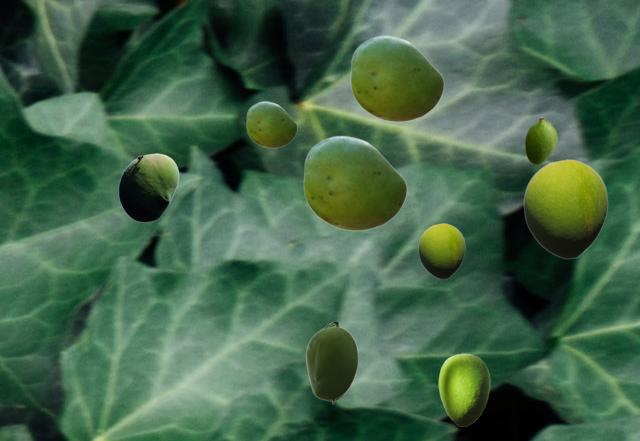green_mango: (303, 135, 406, 230), (523, 159, 607, 258), (350, 35, 443, 121), (305, 322, 357, 403), (118, 153, 178, 221), (438, 353, 489, 425), (418, 223, 464, 278), (246, 101, 296, 147), (525, 117, 556, 163)
